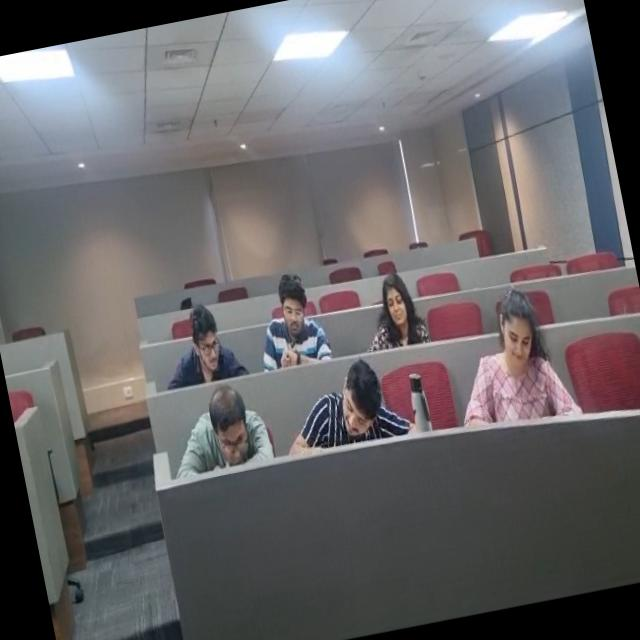cheating: (238, 228, 359, 382), (160, 282, 253, 399)
non-cheating: (167, 346, 293, 496), (296, 326, 418, 471), (470, 264, 570, 421), (359, 243, 446, 363)
